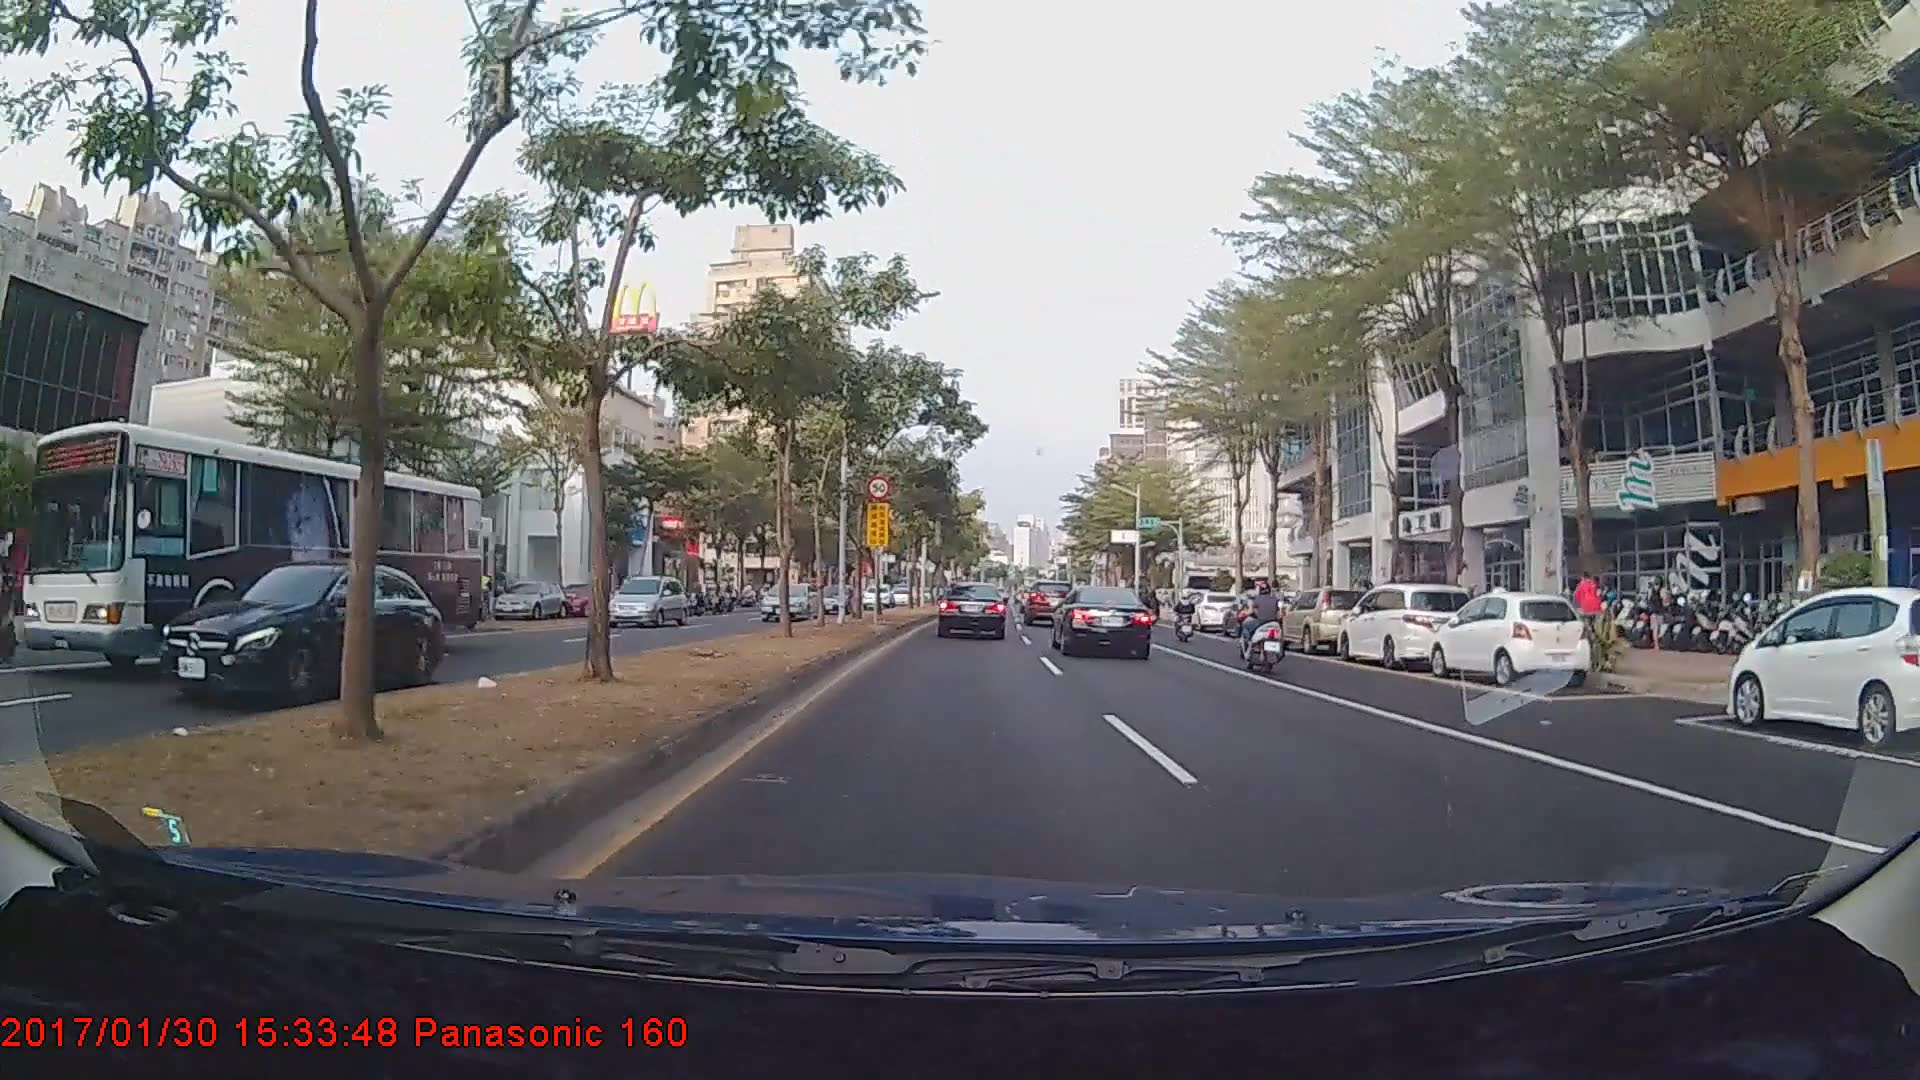rider: (1233, 582, 1301, 675), (1562, 566, 1615, 662), (1170, 588, 1200, 645)
vehicle: (20, 419, 485, 676), (156, 561, 448, 706), (1728, 583, 1920, 750), (1429, 590, 1583, 685), (1342, 582, 1477, 673), (1053, 584, 1154, 660), (1276, 587, 1376, 656), (605, 574, 685, 626), (937, 581, 1007, 640), (1187, 592, 1242, 634), (1023, 583, 1073, 628), (761, 582, 818, 620)
